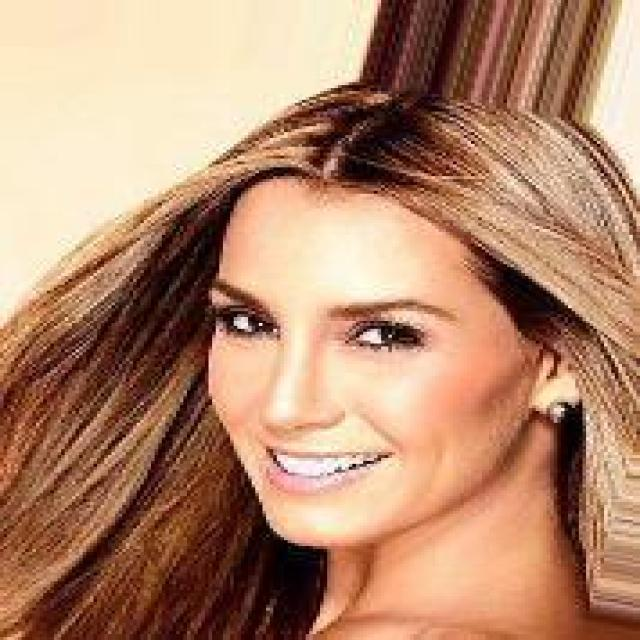bareface: (194, 114, 616, 556)
